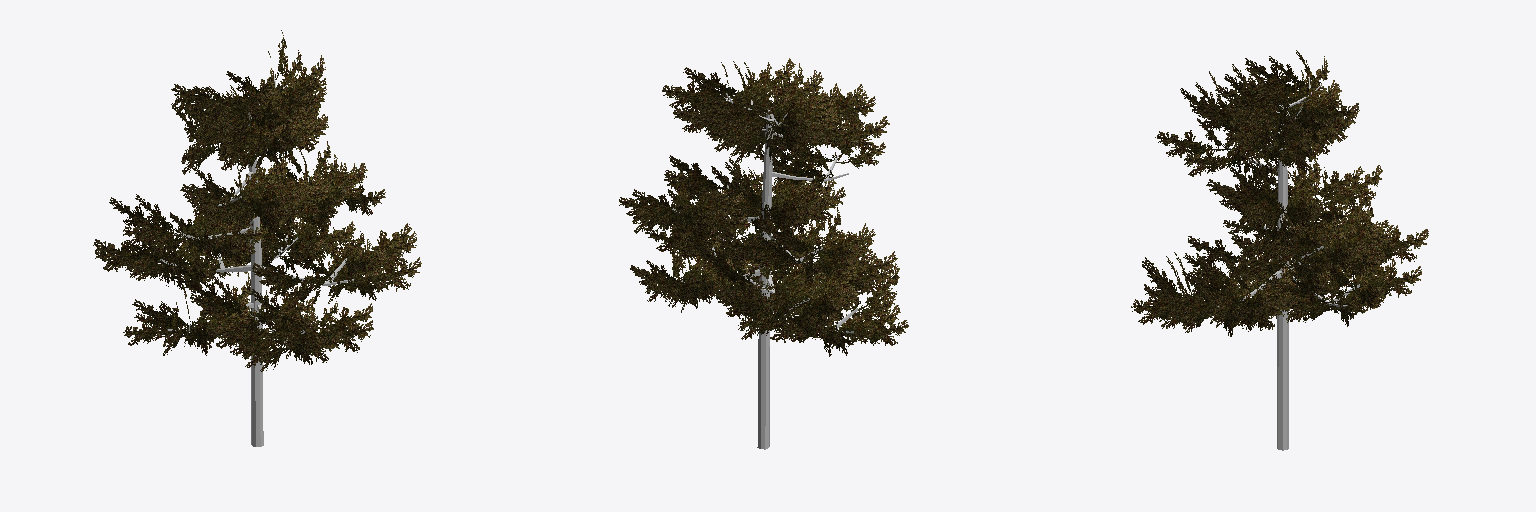
3 renders of one model, left to right at view 1: azimuth 30°, elevation 25°; view 2: azimuth 150°, elevation 25°; view 3: azimuth 270°, elevation 25°, orthographic.
Visible parts, largest first — view 1: 12; view 2: 12; view 3: 12.
Part boxes in pixels (x1,y1,x2,y2): 12: (93, 30, 421, 446); 12: (619, 58, 908, 449); 12: (1131, 50, 1428, 450).
Size of the model in its own units: 5.59 by 7.33 by 5.31.
Materials: 2 (1 with a texture image).